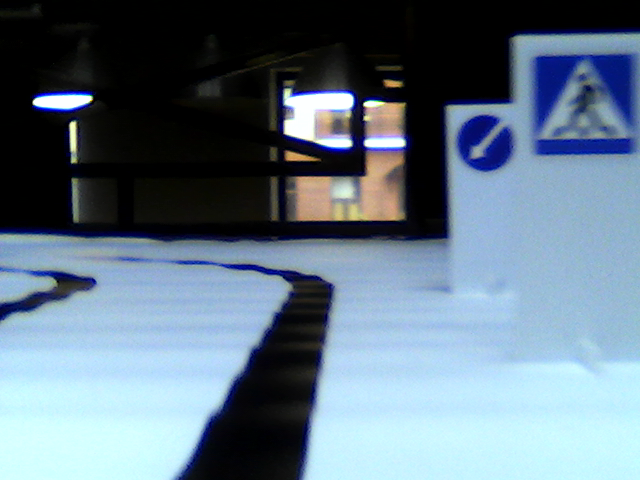pesh: (534, 57, 635, 154)
prep: (455, 109, 514, 173)
